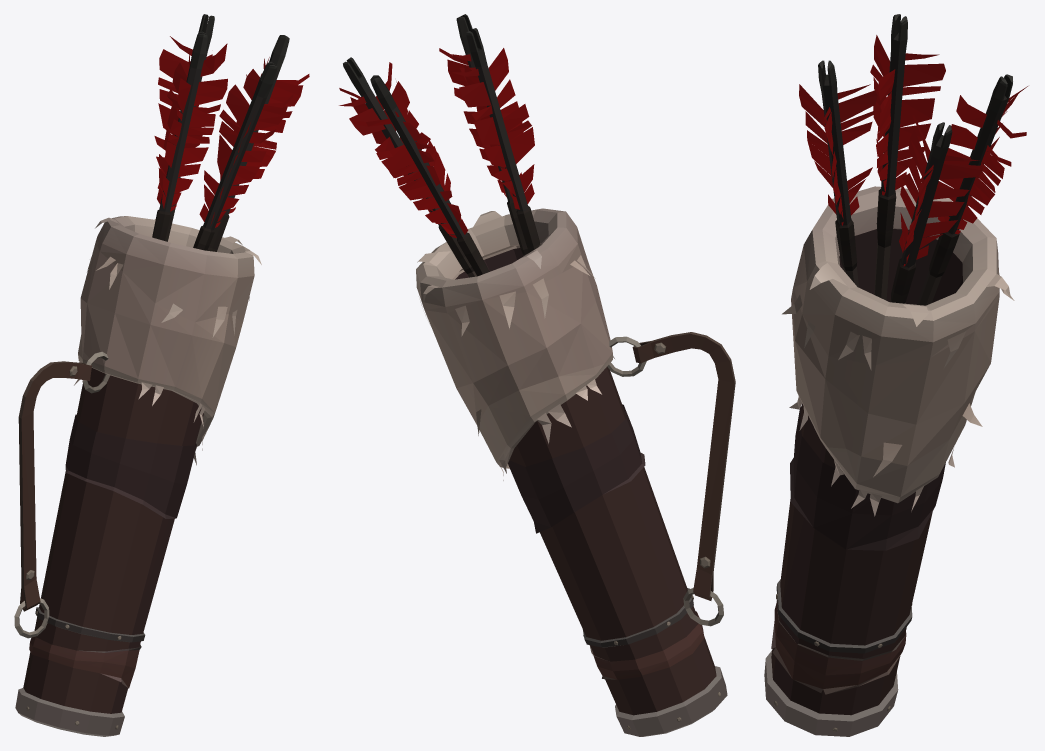
File: vikingBackQuiver.glb
3 views of the same model, side by side, from view 1: azimuth 30°, elevation 25°; view 2: azimuth 150°, elevation 25°; view 3: azimuth 270°, elevation 25° (orthographic). The views are drawn at different scales.
Parts seen in each view (by area): view 1: vikingBackQuiver; view 2: vikingBackQuiver; view 3: vikingBackQuiver.
Part boxes in pixels (x1,y1,x2,y2): vikingBackQuiver: (14, 14, 309, 736); vikingBackQuiver: (339, 14, 735, 736); vikingBackQuiver: (764, 14, 1027, 736).
Size of the model in its own units: 0.4475 by 0.8283 by 0.2512.
